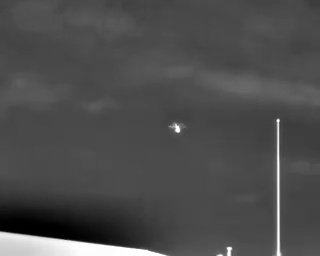HELICOPTER: (164, 116, 191, 139)
